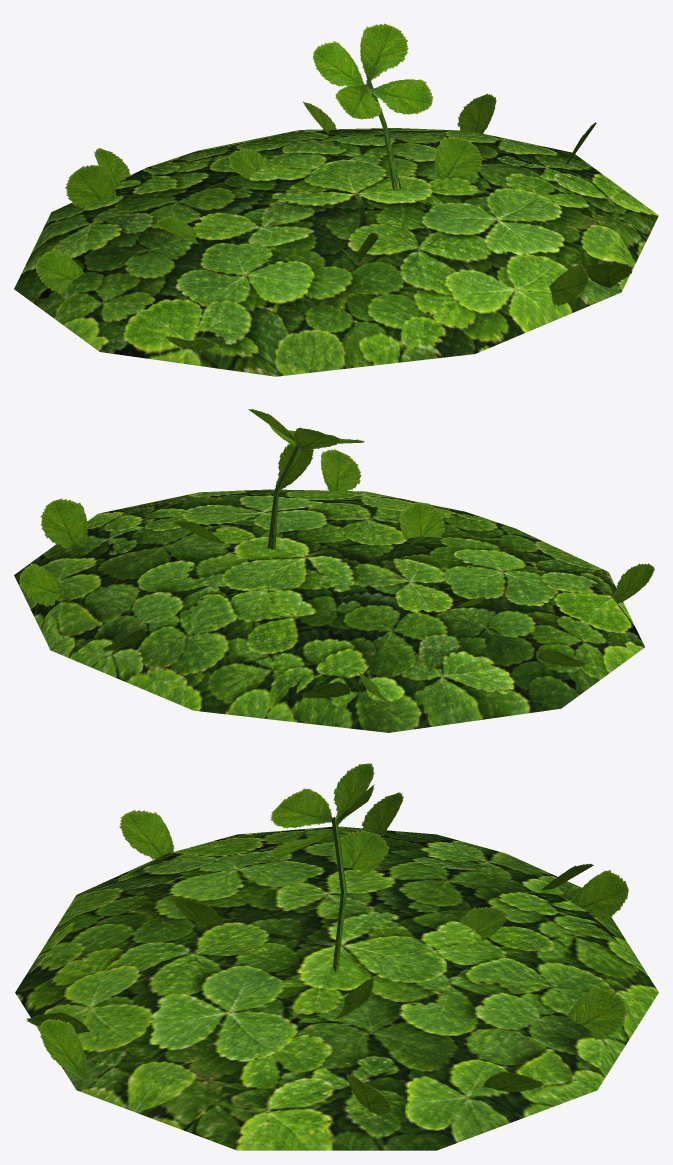
The model's file is mm9_deco_clover.glb.
The picture shows the model from 3 angles, top to bottom: view 1: azimuth 30°, elevation 25°; view 2: azimuth 150°, elevation 25°; view 3: azimuth 270°, elevation 25°; orthographic projection. The views are drawn at different scales.
Visible parts, largest first — view 1: Clover; view 2: Clover; view 3: Clover.
Boxes of the visible parts, x1=… form: Clover: x1=14, y1=23, x2=658, y2=376; Clover: x1=14, y1=409, x2=654, y2=732; Clover: x1=15, y1=763, x2=658, y2=1150.
Size of the model in its own units: 0.4863 by 0.1724 by 0.4109.
Materials: 1 (1 with a texture image).
